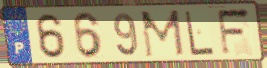6: (71, 10, 105, 61), (35, 12, 66, 60)
9: (112, 12, 140, 57)
F: (215, 7, 253, 58)
L: (183, 9, 216, 58)
M: (139, 8, 186, 59)
